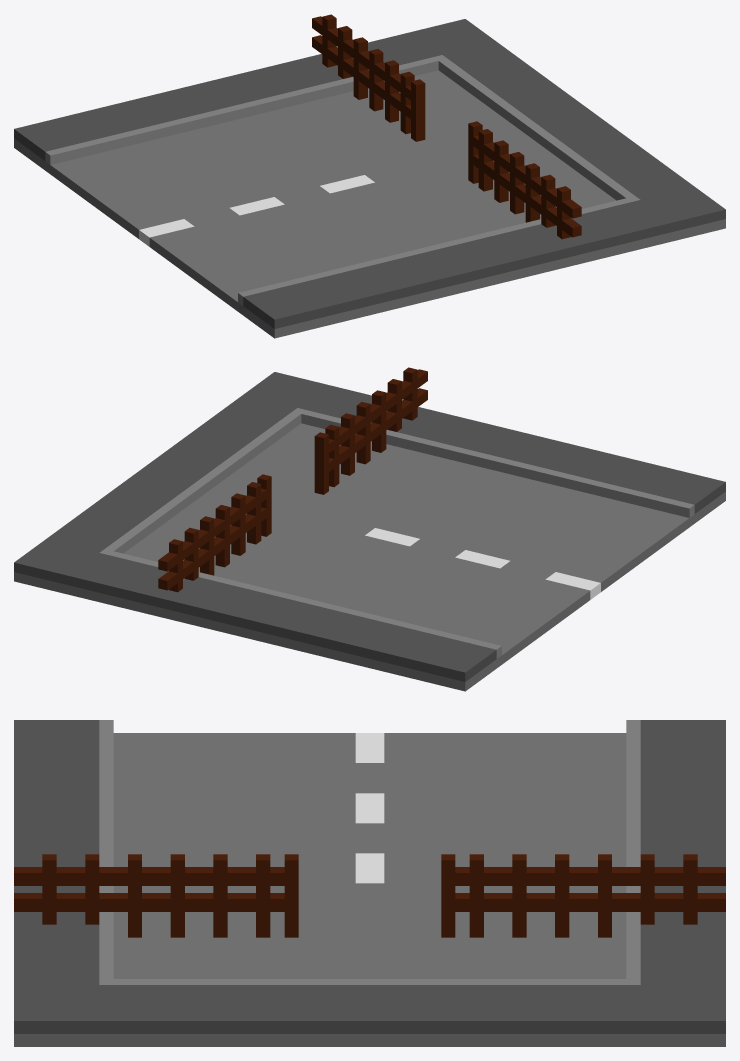
The model's file is --7-F8 - Finish.obj.
The picture shows the model from 3 angles, top to bottom: view 1: azimuth 30°, elevation 25°; view 2: azimuth 150°, elevation 25°; view 3: azimuth 270°, elevation 25°; orthographic projection. The views are drawn at different scales.
Parts seen in each view (by area): view 1: F8 - Finish; view 2: F8 - Finish; view 3: F8 - Finish.
Part boxes in pixels (x1,y1,x2,y2): F8 - Finish: (14,14,725,338); F8 - Finish: (14,367,725,691); F8 - Finish: (14,720,725,1046).
Size of the model in its own units: 5 by 0.7 by 5.
Materials: 1 (1 with a texture image).
